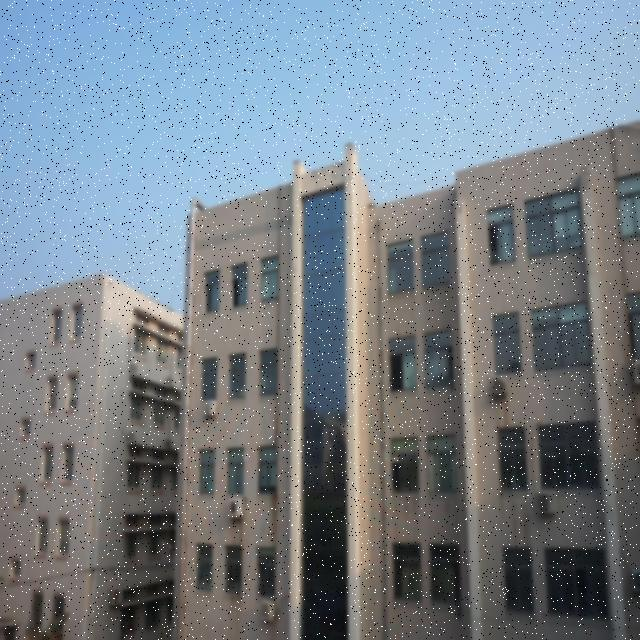UAV: (161, 541, 172, 554)
